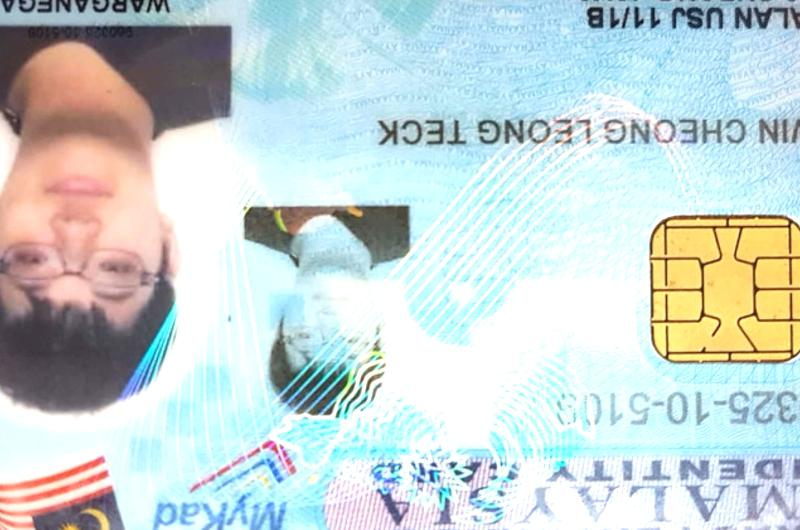hologram: (412, 148, 590, 338)
